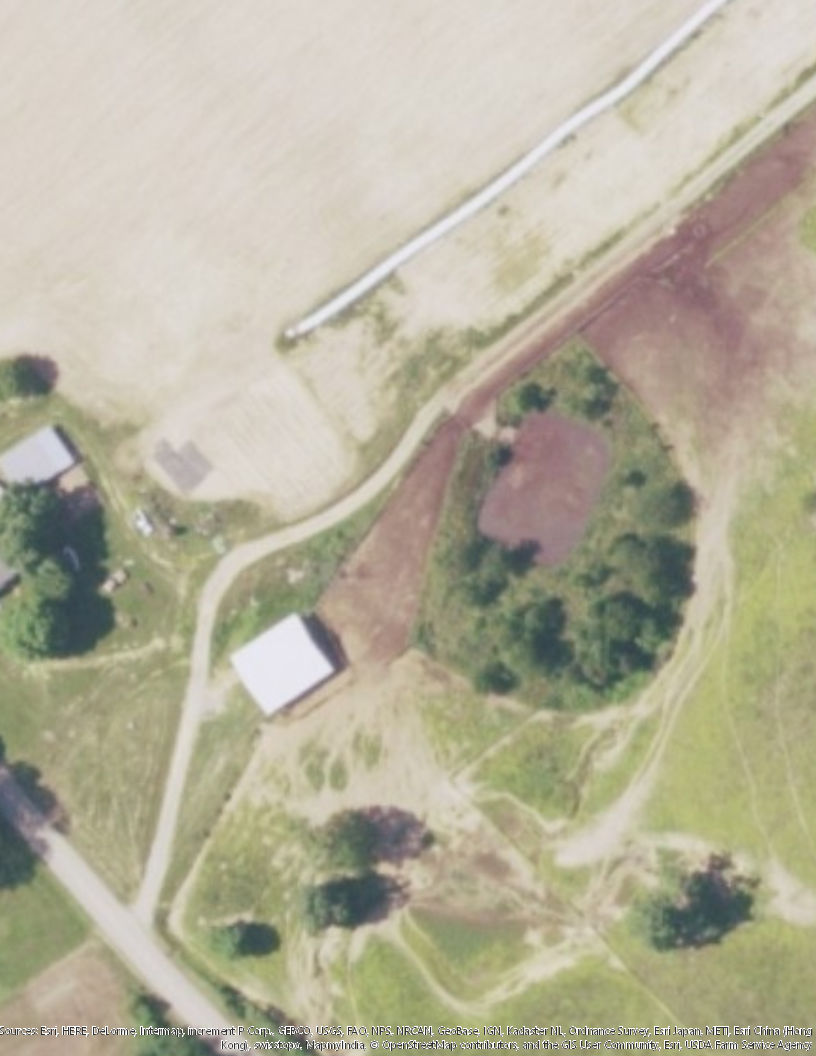cafo: (225, 599, 352, 721)
